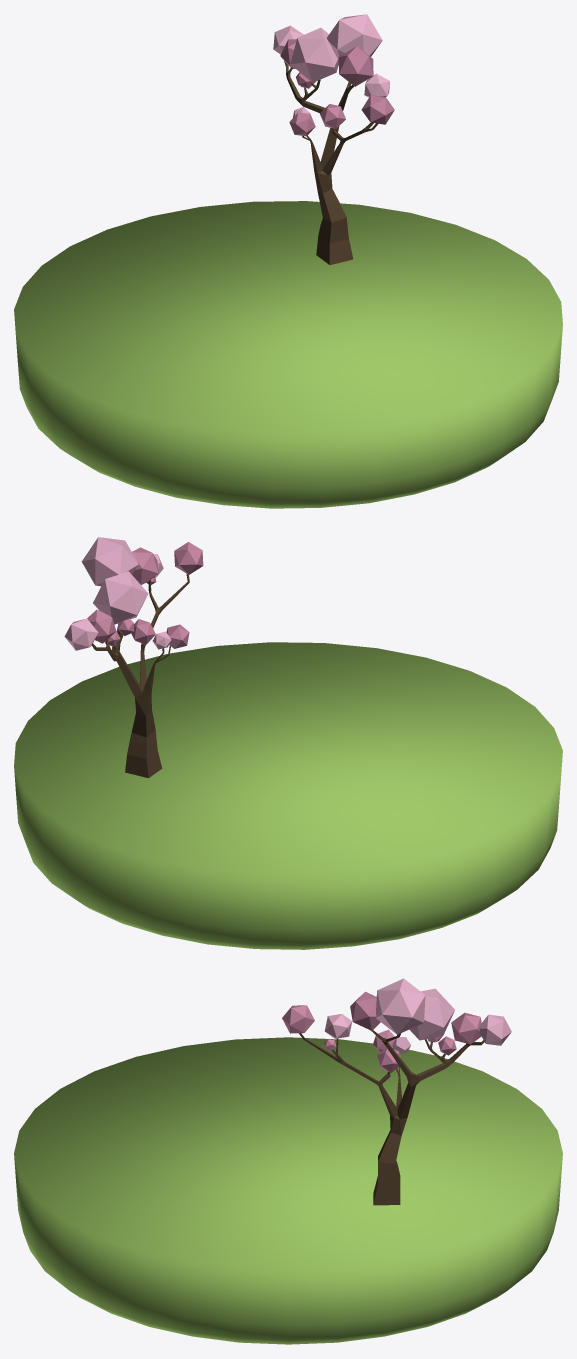
File: Sakura_scene.glb
3 views of the same model, one above another, from view 1: azimuth 30°, elevation 25°; view 2: azimuth 150°, elevation 25°; view 3: azimuth 270°, elevation 25° (orthographic).
Visible parts, largest first — view 1: Ground-spring.001, Big tree.002, Icosphere.018, Icosphere.015, Icosphere.019, Icosphere.013; view 2: Ground-spring.001, Big tree.002, Icosphere.018, Icosphere.015, Icosphere.014, Icosphere.013, Icosphere.019, Icosphere.021; view 3: Ground-spring.001, Big tree.002, Icosphere.015, Icosphere.018, Icosphere.019, Icosphere.014, Icosphere.021, Icosphere.013, Icosphere.017.
Boxes of the visible parts, x1=… form: Ground-spring.001: x1=14, y1=201, x2=562, y2=508; Big tree.002: x1=284, y1=60, x2=378, y2=264; Icosphere.018: x1=290, y1=27, x2=338, y2=82; Icosphere.015: x1=327, y1=14, x2=382, y2=59; Icosphere.019: x1=338, y1=46, x2=373, y2=86; Icosphere.013: x1=361, y1=95, x2=394, y2=124; Ground-spring.001: x1=14, y1=642, x2=562, y2=949; Big tree.002: x1=92, y1=574, x2=189, y2=778; Icosphere.018: x1=93, y1=571, x2=148, y2=624; Icosphere.015: x1=81, y1=537, x2=138, y2=586; Icosphere.014: x1=64, y1=618, x2=98, y2=650; Icosphere.013: x1=174, y1=542, x2=203, y2=574; Icosphere.019: x1=132, y1=547, x2=158, y2=585; Icosphere.021: x1=87, y1=609, x2=116, y2=643; Ground-spring.001: x1=14, y1=1037, x2=562, y2=1344; Big tree.002: x1=299, y1=1030, x2=484, y2=1205; Icosphere.015: x1=376, y1=978, x2=425, y2=1034; Icosphere.018: x1=409, y1=988, x2=454, y2=1040; Icosphere.019: x1=350, y1=991, x2=380, y2=1030; Icosphere.014: x1=479, y1=1014, x2=511, y2=1045; Icosphere.021: x1=451, y1=1012, x2=481, y2=1044; Icosphere.013: x1=282, y1=1005, x2=314, y2=1033; Icosphere.017: x1=324, y1=1014, x2=352, y2=1038.
Bounding box in the file's own units: 2.17 × 1.41 × 2.17.
